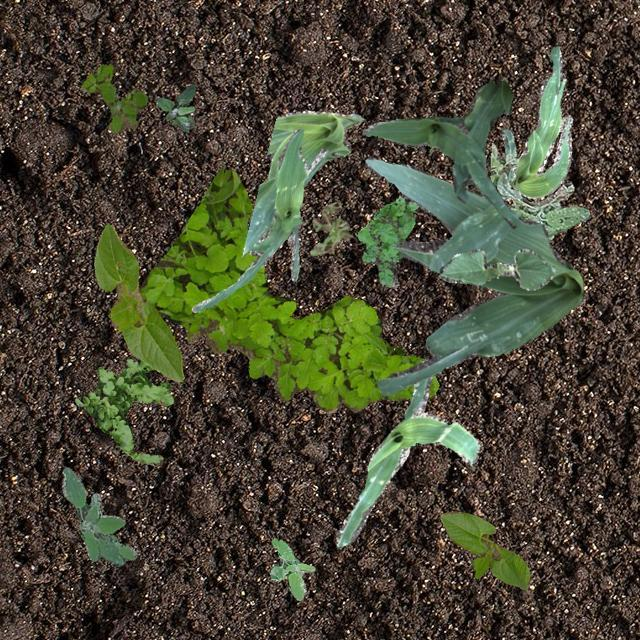crop: (364, 154, 582, 394), (190, 128, 326, 312), (334, 374, 478, 546), (362, 78, 516, 228), (242, 110, 362, 254), (92, 222, 182, 381), (496, 45, 572, 198), (439, 511, 528, 588), (438, 248, 554, 290)
weed: (138, 166, 438, 412), (74, 358, 172, 466), (488, 142, 588, 238), (60, 466, 136, 564), (357, 192, 418, 288), (80, 62, 146, 132), (268, 538, 314, 600), (310, 200, 352, 254), (154, 82, 194, 132)
